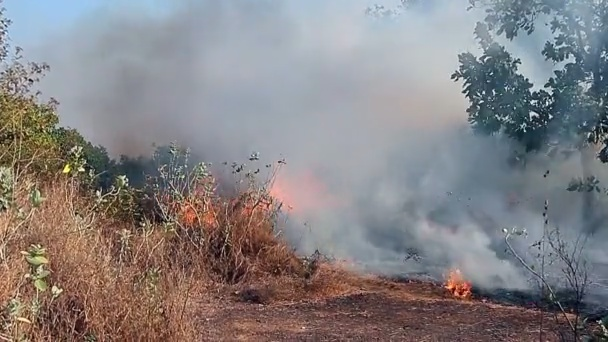fire: (446, 279, 471, 299), (61, 165, 69, 172)
